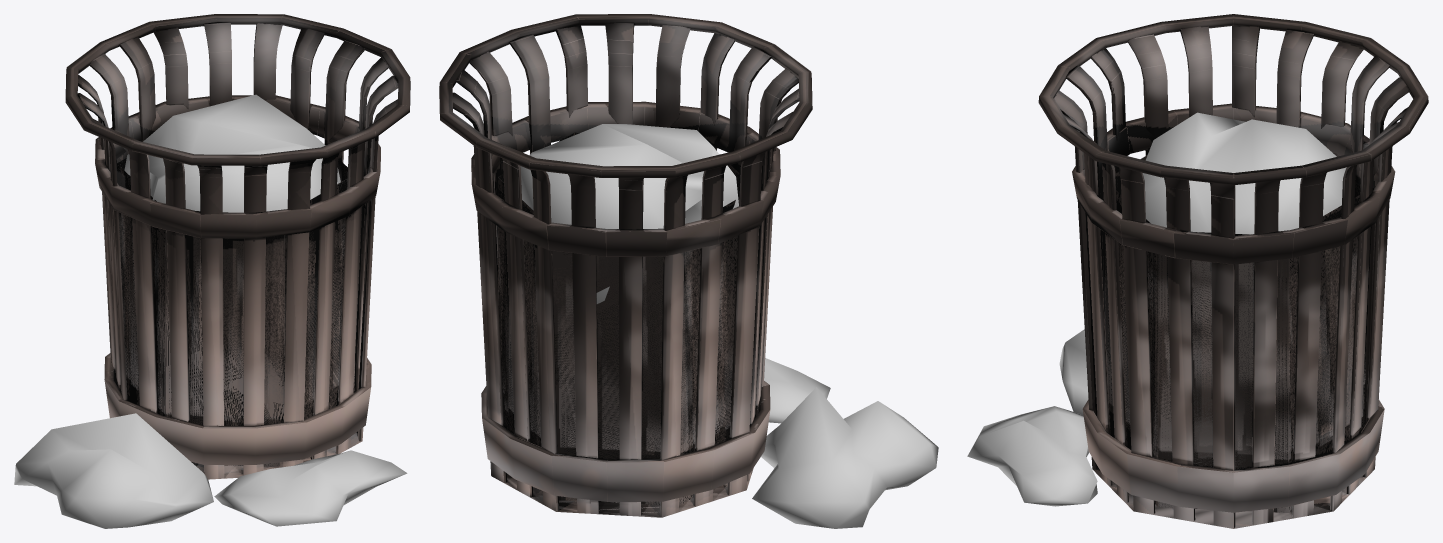
File: garbage.fbx
3 views of the same model, side by side, from view 1: azimuth 30°, elevation 25°; view 2: azimuth 150°, elevation 25°; view 3: azimuth 270°, elevation 25° (orthographic). The views are drawn at different scales.
Parts seen in each view (by area): view 1: Trash.002; view 2: Trash.002; view 3: Trash.002.
Boxes of the visible parts, box(x1,y1,x2,y2) form: Trash.002: box(14, 14, 410, 528); Trash.002: box(439, 14, 938, 528); Trash.002: box(967, 14, 1428, 528).
Bounding box in the file's own units: 17.46 × 15.22 × 16.51.
